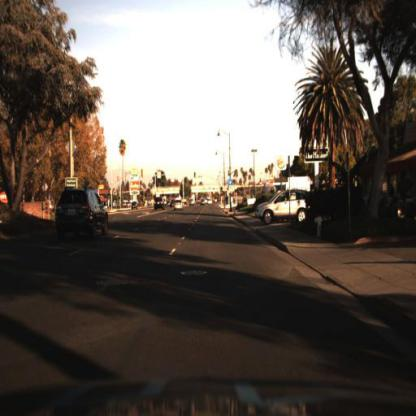car: (56, 185, 113, 245), (256, 192, 307, 224), (130, 196, 142, 212), (172, 196, 184, 212), (173, 197, 184, 213), (153, 196, 165, 210), (150, 195, 162, 208)
